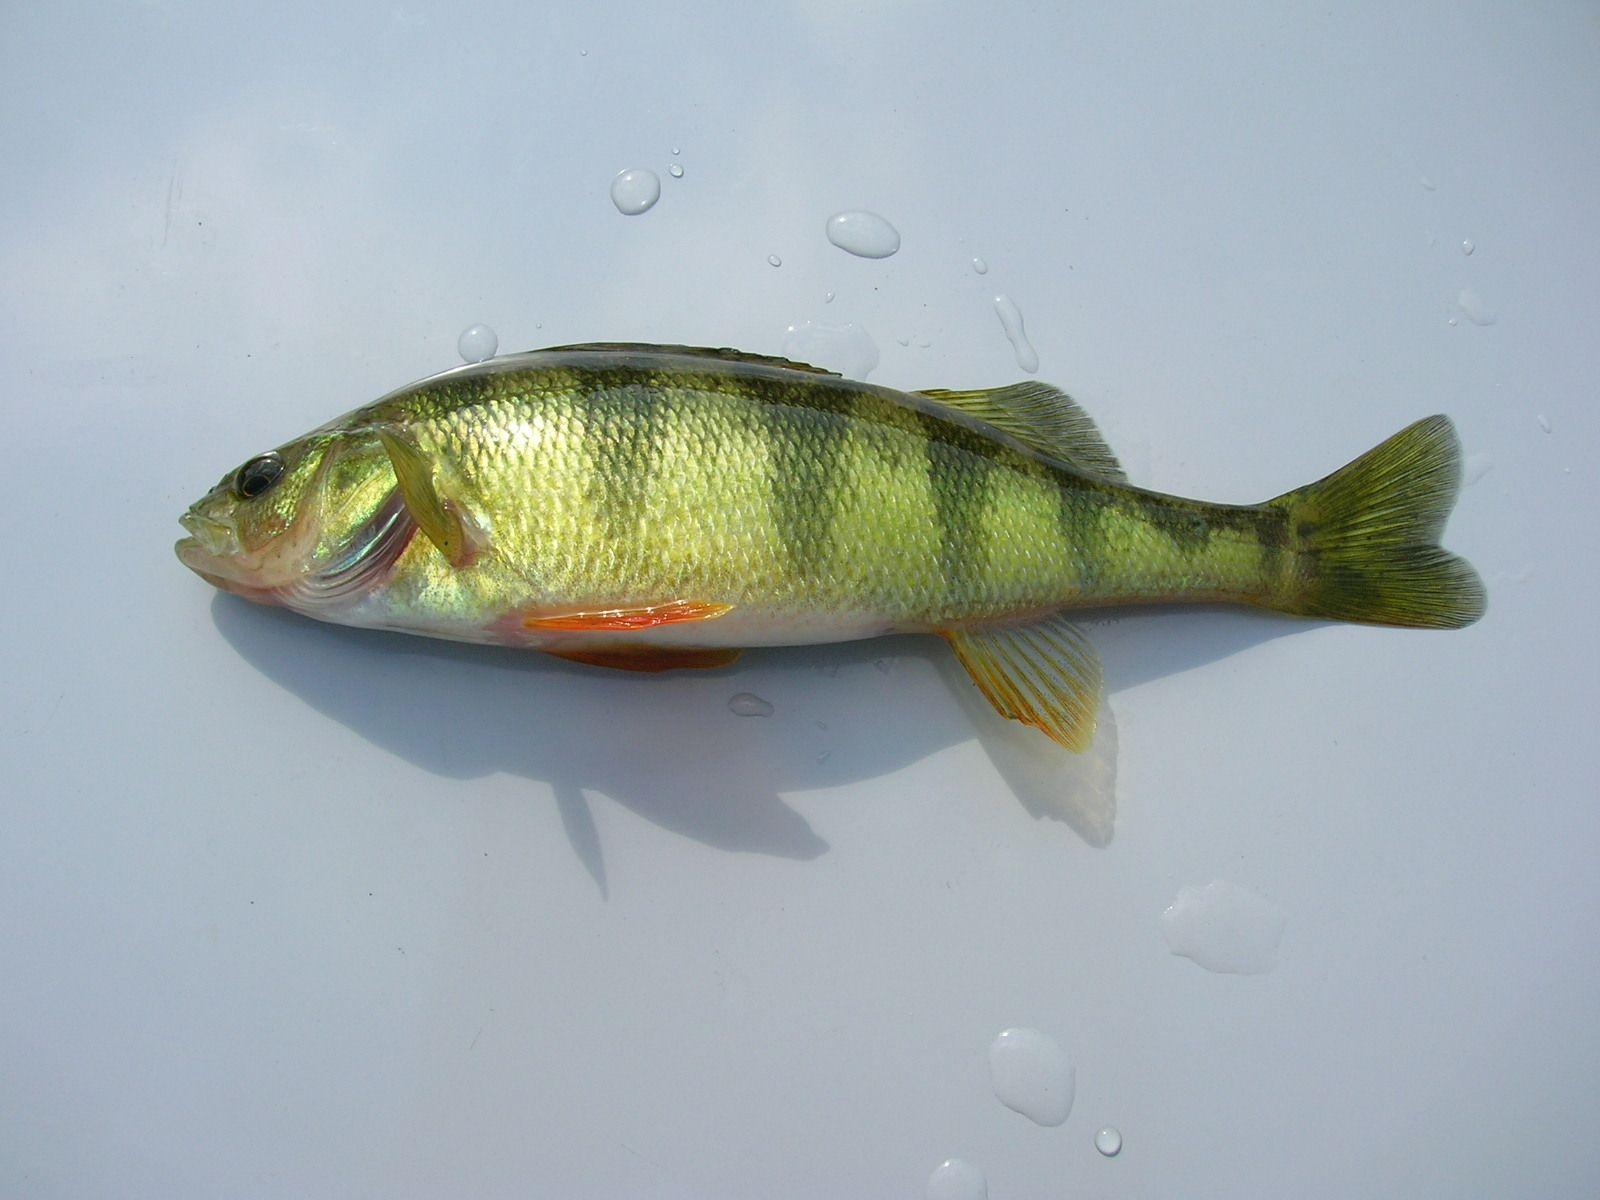Perch: (188, 306, 1494, 787)
